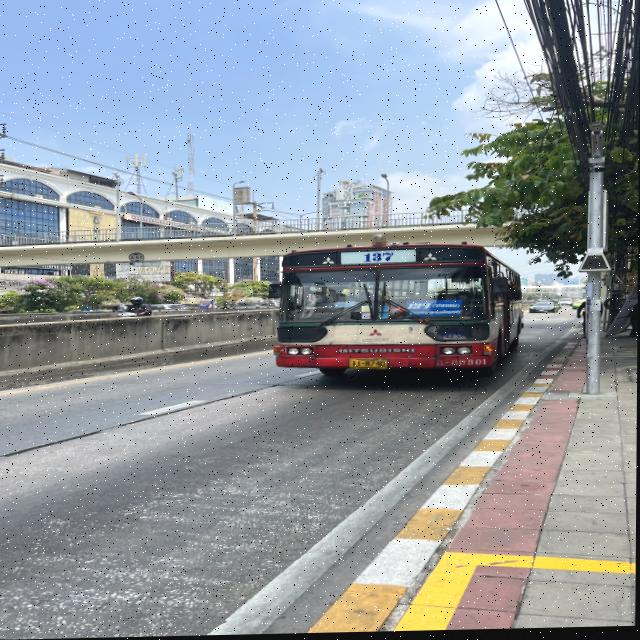BMTA-bus: (272, 237, 529, 382)
Bus-Line-Number: (359, 252, 397, 265)
Destination-Sign-Normal: (407, 302, 463, 319)
